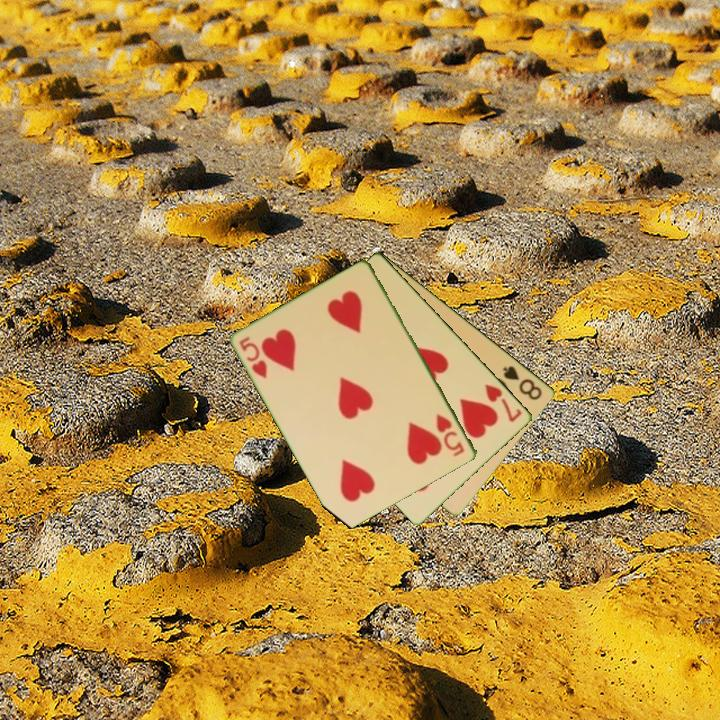5h: (433, 411, 468, 459), (236, 333, 271, 381)
7h: (481, 380, 525, 425)
8s: (500, 362, 545, 403)
